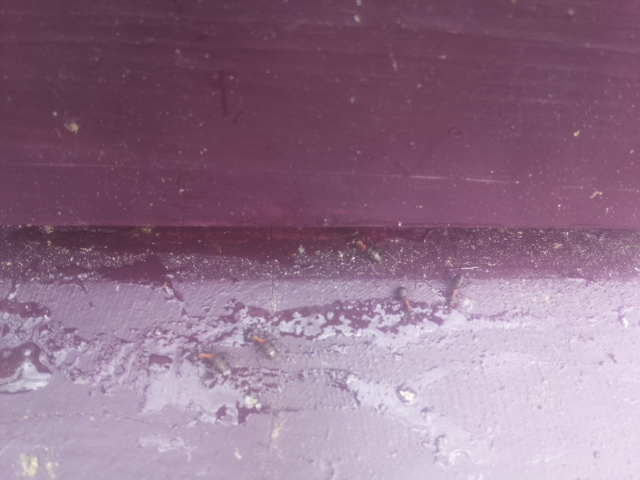ant: (241, 329, 279, 363), (348, 234, 387, 267), (191, 348, 233, 376), (446, 268, 466, 312), (394, 282, 414, 318)
